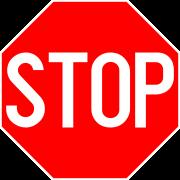Stop: (9, 15, 170, 165)
